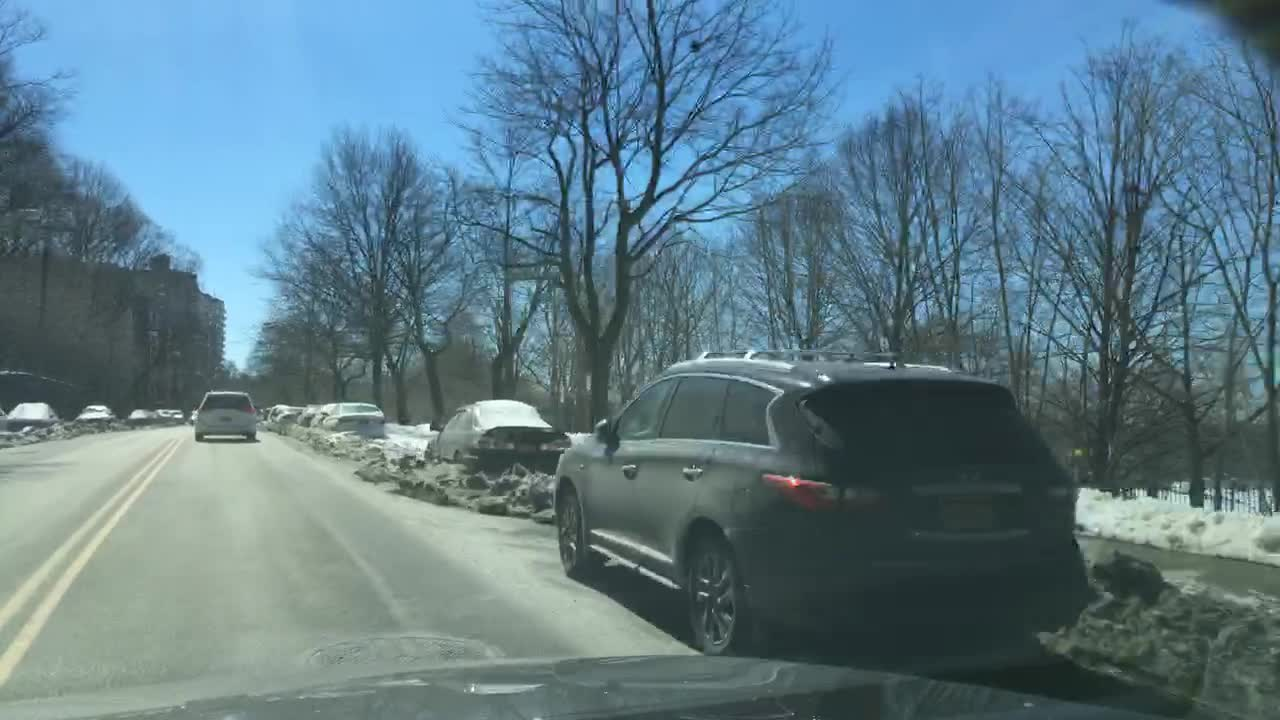car: (553, 348, 1090, 665), (422, 399, 569, 472), (195, 390, 258, 439), (322, 401, 387, 439), (8, 401, 62, 429), (72, 402, 114, 423), (310, 402, 334, 430), (126, 404, 149, 423), (296, 409, 317, 429), (268, 404, 294, 420), (280, 409, 303, 425), (151, 409, 168, 423), (172, 409, 184, 423), (261, 423, 280, 429), (191, 479, 195, 493), (359, 565, 362, 579)
